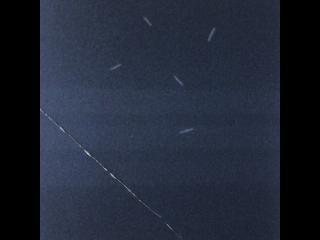crack: (40, 108, 182, 240)
scratch: (140, 13, 156, 29), (175, 126, 196, 136), (206, 27, 216, 43), (172, 73, 184, 86), (109, 63, 122, 71)
